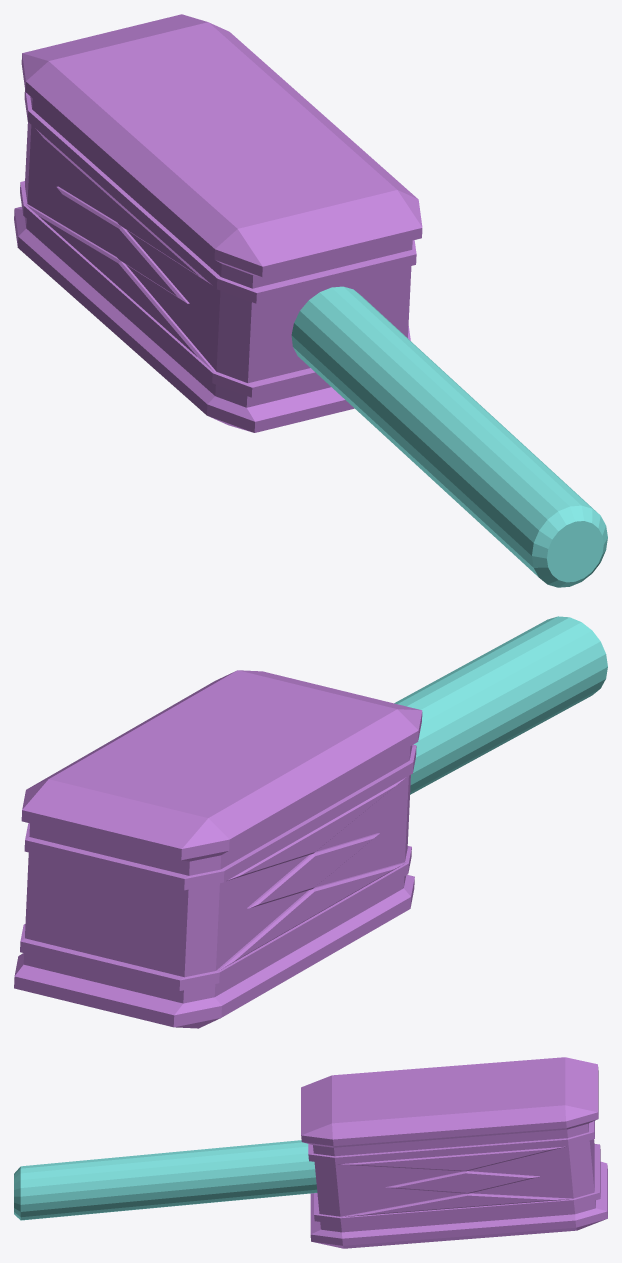
File: hammer.fbx
3 renders of one model, top to bottom at view 1: azimuth 30°, elevation 25°; view 2: azimuth 150°, elevation 25°; view 3: azimuth 270°, elevation 25°, orthographic. The views are drawn at different scales.
Visible parts, largest first — view 1: Object_6.001; view 2: Object_6.001; view 3: Object_6.001.
Boxes of the visible parts, x1=… form: Object_6.001: x1=14, y1=14, x2=607, y2=587; Object_6.001: x1=14, y1=616, x2=607, y2=1028; Object_6.001: x1=14, y1=1057, x2=607, y2=1248.
Size of the model in its own units: 77.16 by 84.25 by 316.
